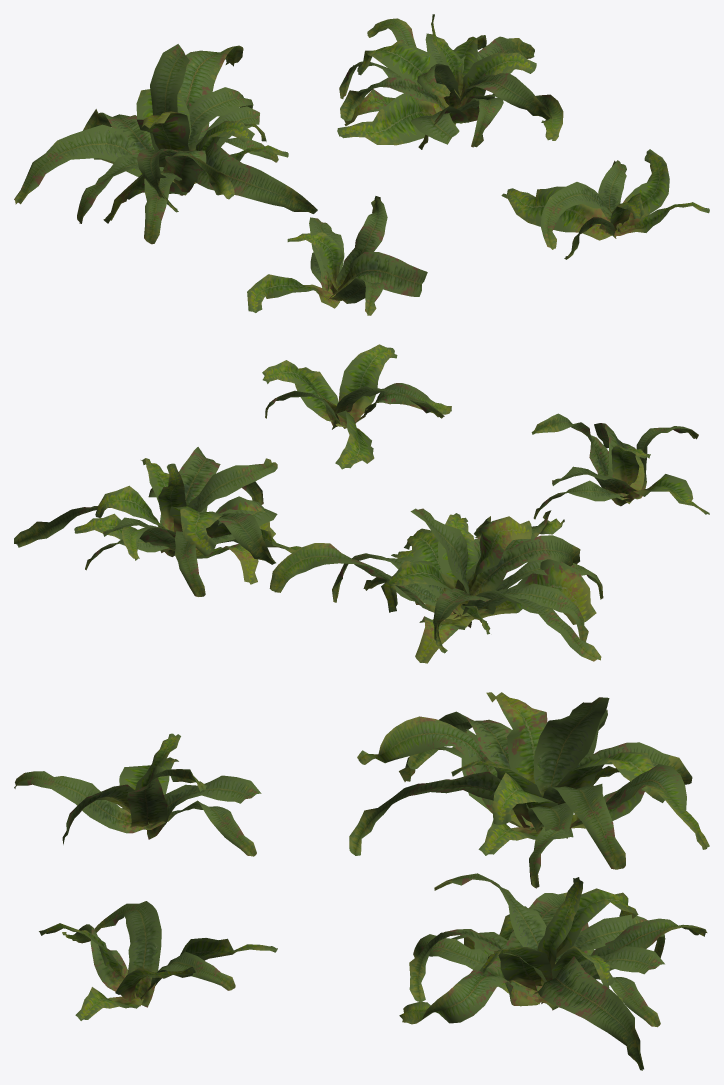
Rendered from fern_02.glb.
3 views of the same model, one above another, from view 1: azimuth 30°, elevation 25°; view 2: azimuth 150°, elevation 25°; view 3: azimuth 270°, elevation 25° (orthographic). The views are drawn at different scales.
Parts seen in each view (by area): view 1: fern_02_b, fern_02_c, fern_02_d, fern_02_a; view 2: fern_02_b, fern_02_c, fern_02_d, fern_02_a; view 3: fern_02_b, fern_02_c, fern_02_a, fern_02_d.
Part boxes in pixels (bbox=[...]): fern_02_b: bbox=[14, 44, 317, 244]; fern_02_c: bbox=[337, 14, 563, 149]; fern_02_d: bbox=[501, 149, 709, 259]; fern_02_a: bbox=[247, 196, 427, 315]; fern_02_b: bbox=[269, 508, 603, 663]; fern_02_c: bbox=[14, 447, 301, 596]; fern_02_d: bbox=[262, 344, 451, 469]; fern_02_a: bbox=[531, 413, 709, 519]; fern_02_b: bbox=[349, 692, 709, 888]; fern_02_c: bbox=[399, 873, 707, 1070]; fern_02_a: bbox=[14, 733, 261, 856]; fern_02_d: bbox=[39, 901, 277, 1020].
Size of the model in its own units: 1.97 by 0.4277 by 1.72.
1 material, 1 textured.
